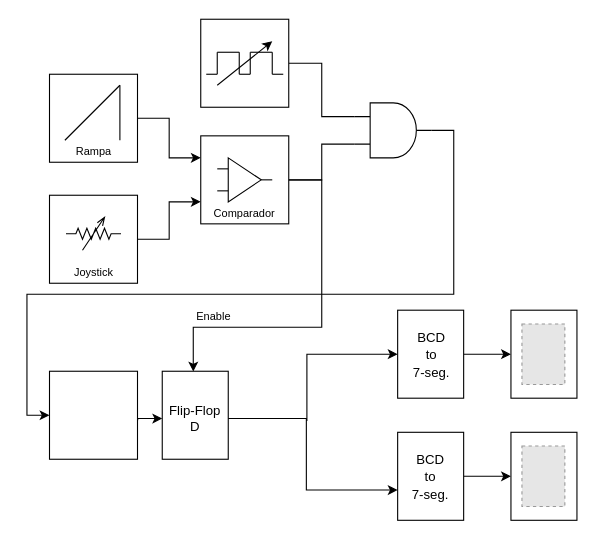
The diagram is 596 pixels wide and 540 high, and some of its shapes have lost their labels. Grey dashed boxes stand in for pictures. Each missing label, with the centre of its shape:
Clock: the point at 244,62
Contador de Pulsos: the point at 93,414
